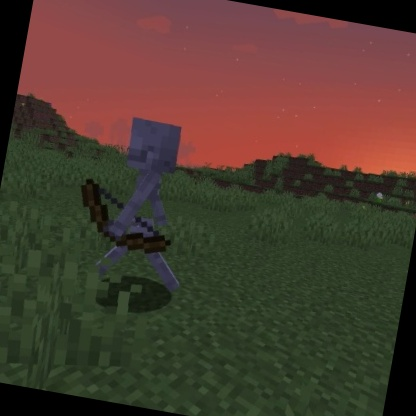skeleton: (62, 105, 211, 298)
